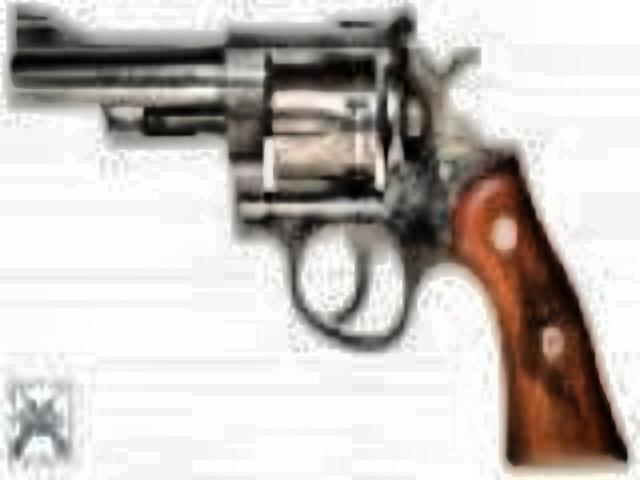pistol: (0, 0, 616, 460)
